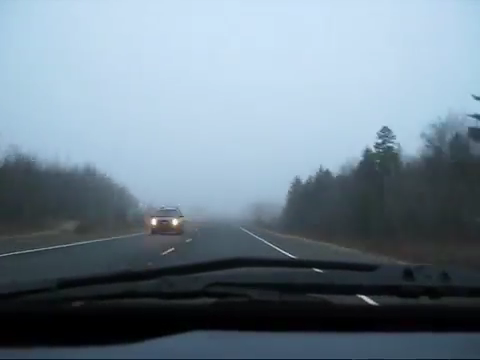car: (148, 204, 186, 235)
